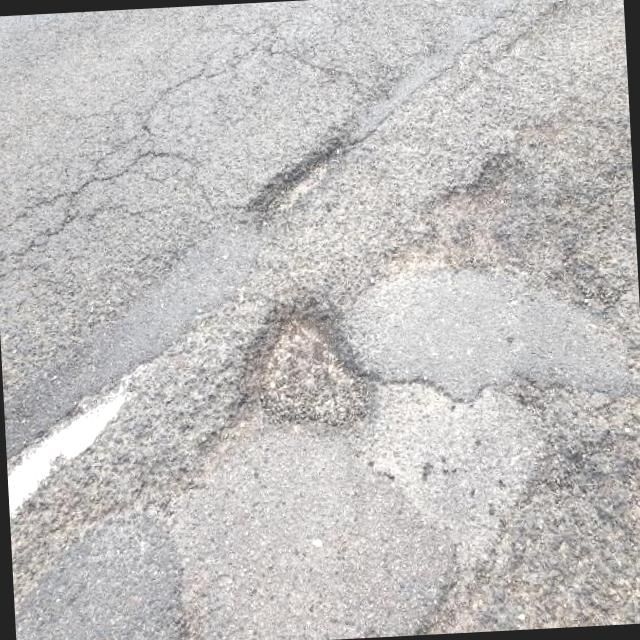pothole: (232, 279, 382, 437), (407, 144, 532, 274), (243, 127, 368, 229)
